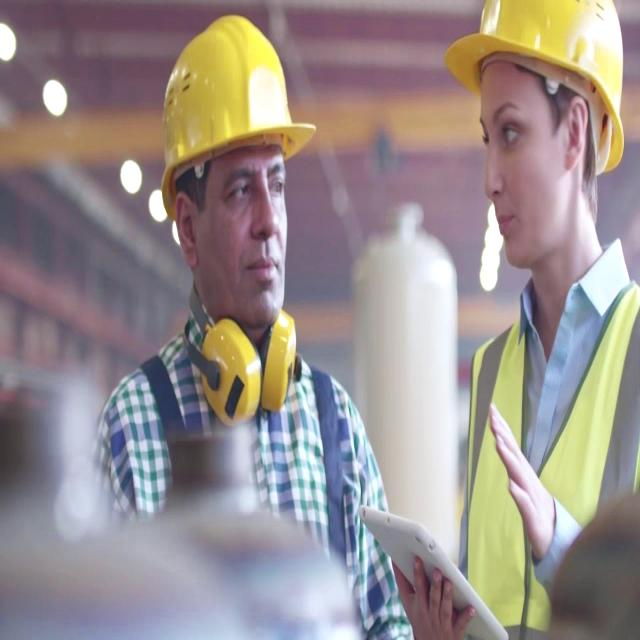face_nomask: (482, 75, 576, 268), (211, 154, 301, 334)
hand_noglove: (481, 403, 563, 569), (389, 557, 475, 640)
head_helmet: (445, 1, 627, 161), (154, 7, 312, 174)
person: (59, 3, 387, 640), (406, 0, 640, 638)
vest: (458, 278, 639, 633)
